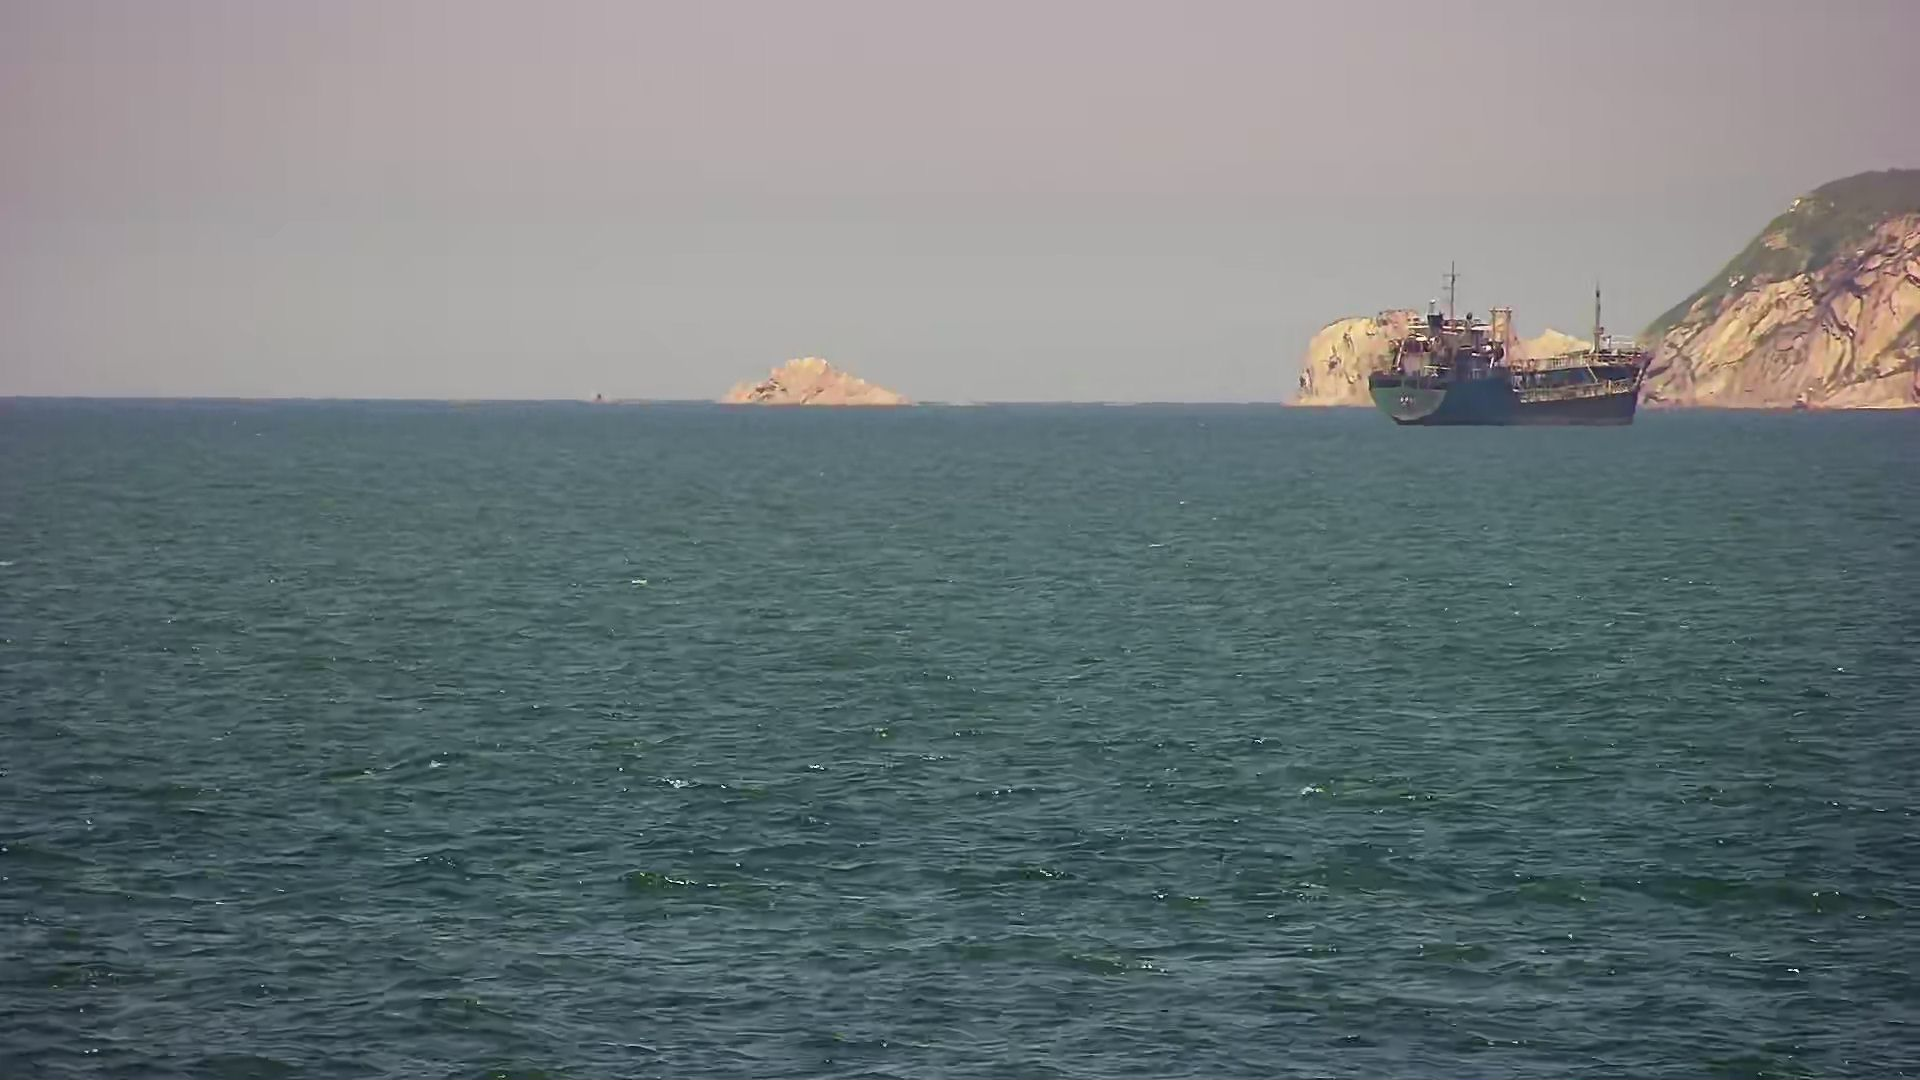rock: (1273, 152, 1917, 415), (705, 345, 930, 409)
ship: (1361, 253, 1668, 434)
